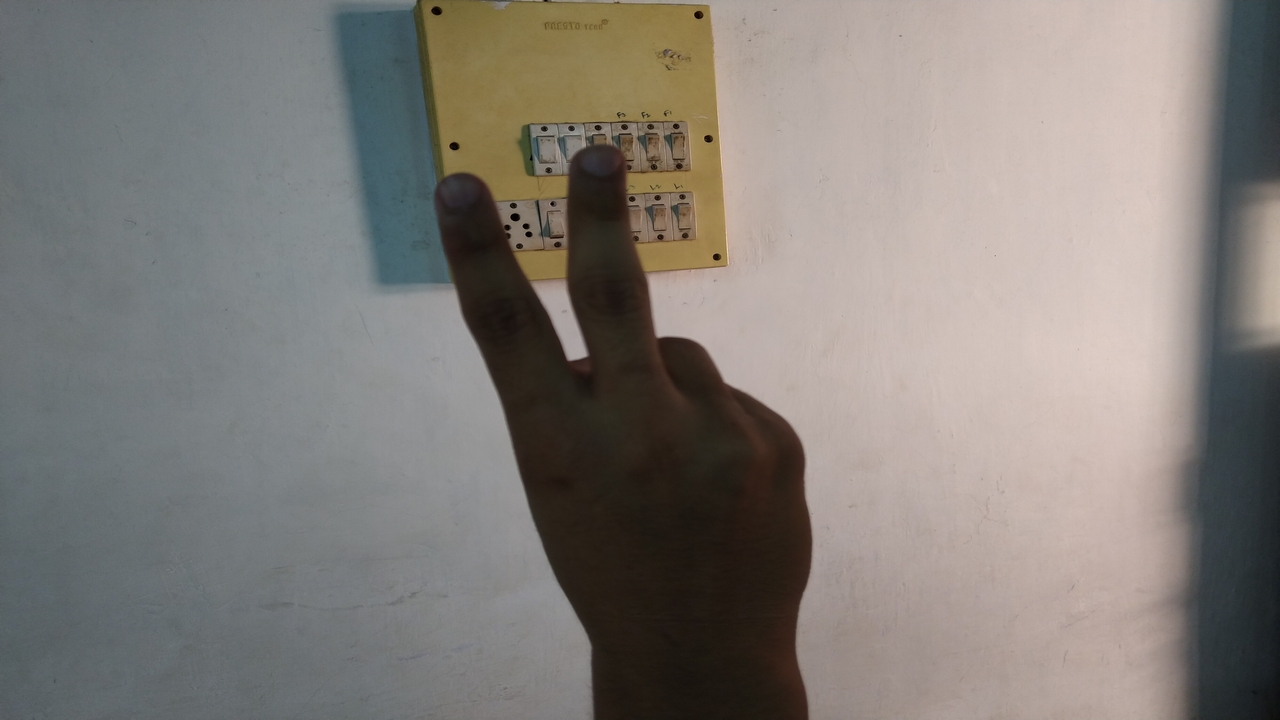fingertip: (430, 170, 496, 222), (572, 138, 627, 193)
